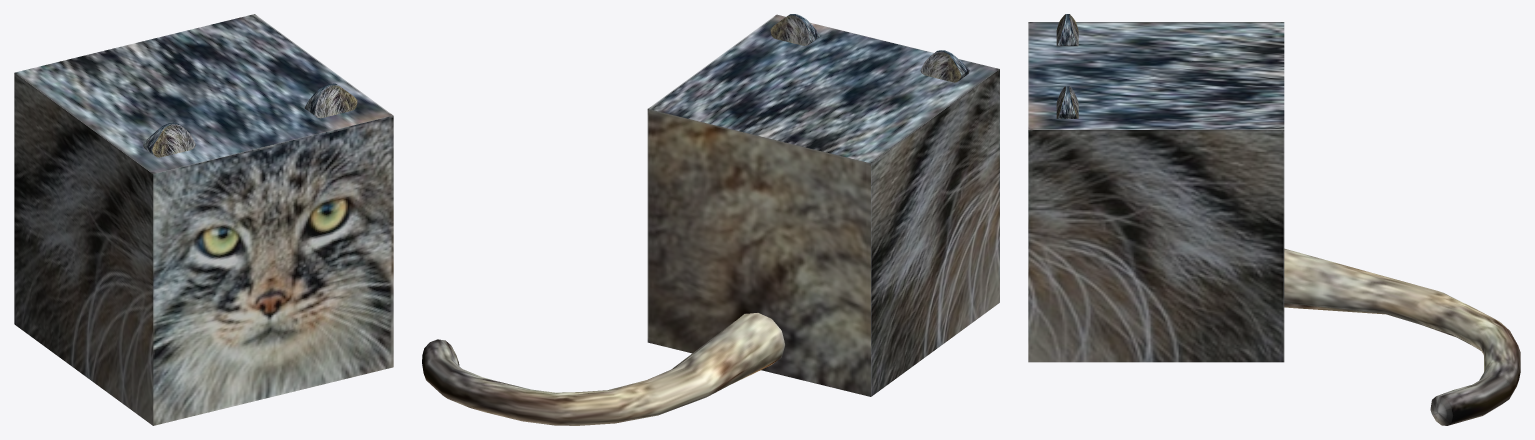
The model's file is pallas_cat_box_manul.glb.
3 views of the same model, side by side, from view 1: azimuth 30°, elevation 25°; view 2: azimuth 150°, elevation 25°; view 3: azimuth 270°, elevation 25° (orthographic). The views are drawn at different scales.
Visible parts, largest first — view 1: Object_2; view 2: Object_2; view 3: Object_2.
Part boxes in pixels (box(x1,y1,x2,y2)): Object_2: box(14, 14, 393, 425); Object_2: box(422, 14, 999, 425); Object_2: box(1028, 14, 1520, 425).
Size of the model in its own units: 32.6 by 22.03 by 38.46.
Materials: 1 (1 with a texture image).
